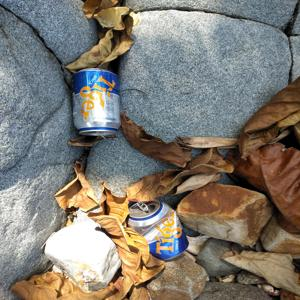metal: (123, 187, 188, 262), (70, 63, 131, 141)
